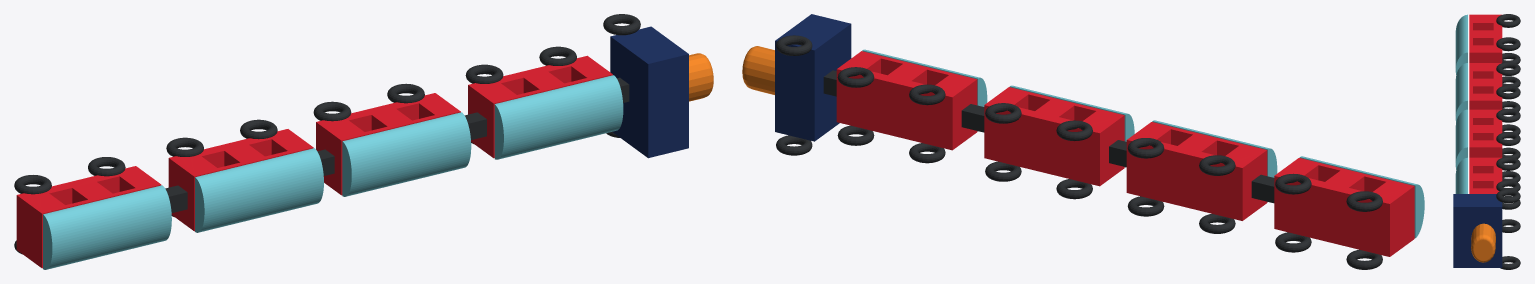
Rendered from tinker.obj.
3 renders of one model, left to right at view 1: azimuth 30°, elevation 25°; view 2: azimuth 150°, elevation 25°; view 3: azimuth 270°, elevation 25°, orthographic. The views are drawn at different scales.
Visible parts, largest first — view 1: group_0_7720667, group_0_15277357, group_0_1650274, group_0_2829873, group_0_16089887; view 2: group_0_15277357, group_0_2829873, group_0_1650274, group_0_7720667, group_0_16089887; view 3: group_0_15277357, group_0_2829873, group_0_1650274, group_0_7720667, group_0_16089887.
Boxes of the visible parts, box(x1,y1,x2,y2) form: group_0_7720667: box(43, 75, 623, 269); group_0_15277357: box(16, 55, 612, 268); group_0_1650274: box(610, 26, 688, 158); group_0_2829873: box(14, 14, 640, 254); group_0_16089887: box(689, 53, 713, 101); group_0_15277357: box(836, 51, 1414, 256); group_0_2829873: box(776, 35, 1382, 269); group_0_1650274: box(775, 14, 851, 141); group_0_7720667: box(862, 49, 1424, 238); group_0_16089887: box(742, 46, 774, 94); group_0_15277357: box(1469, 14, 1502, 193); group_0_2829873: box(1496, 14, 1520, 269); group_0_1650274: box(1453, 194, 1502, 267); group_0_7720667: box(1455, 14, 1467, 193); group_0_16089887: box(1471, 223, 1495, 262).
Size of the model in its own units: 413 by 65 by 55.
